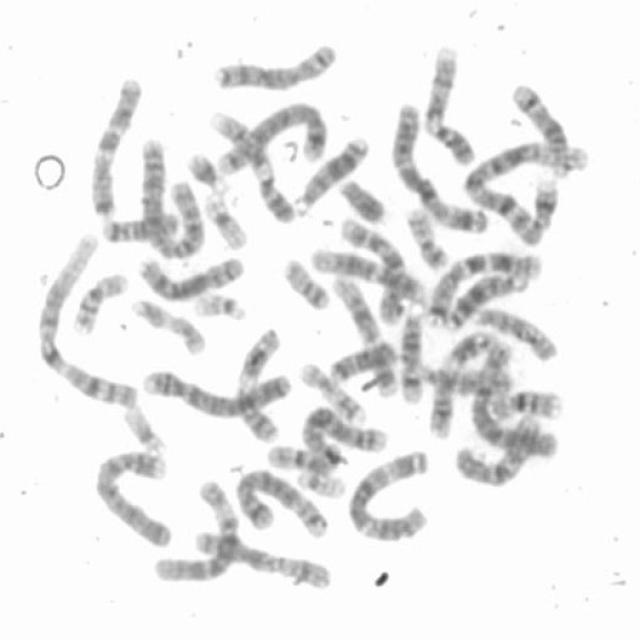A1: (30, 228, 142, 412), (456, 135, 595, 243)
A2: (135, 131, 207, 262), (262, 402, 391, 474)
A3: (387, 95, 493, 234), (342, 444, 431, 544)
B4: (88, 442, 176, 549), (137, 361, 293, 419)
B5: (211, 94, 331, 177), (229, 462, 330, 538)
C10: (336, 211, 414, 321), (448, 406, 546, 490)
C11: (423, 325, 502, 441), (230, 321, 288, 445)
C12: (327, 269, 401, 397), (306, 240, 432, 307)
C6: (469, 338, 560, 460), (148, 473, 244, 583)
C7: (423, 245, 543, 329), (85, 69, 145, 220)
C8: (208, 36, 340, 93), (135, 248, 247, 302)
C9: (205, 104, 297, 224), (418, 39, 479, 167)
D13: (289, 128, 372, 214), (439, 264, 531, 332)
D14: (506, 75, 574, 178), (394, 300, 427, 406)
D15: (469, 301, 560, 364), (404, 353, 515, 400)
E16: (66, 264, 130, 336), (486, 382, 565, 422)
E17: (126, 292, 209, 356), (294, 355, 368, 425)
E18: (324, 336, 400, 386), (98, 207, 181, 244)
F19: (199, 184, 251, 252), (119, 400, 168, 455)
F20: (400, 200, 452, 270), (278, 252, 332, 312)
G21: (182, 144, 231, 194), (526, 174, 561, 235)
G22: (189, 286, 250, 322), (292, 465, 347, 500)
X: (188, 524, 334, 592)
Y: (335, 171, 389, 225)
